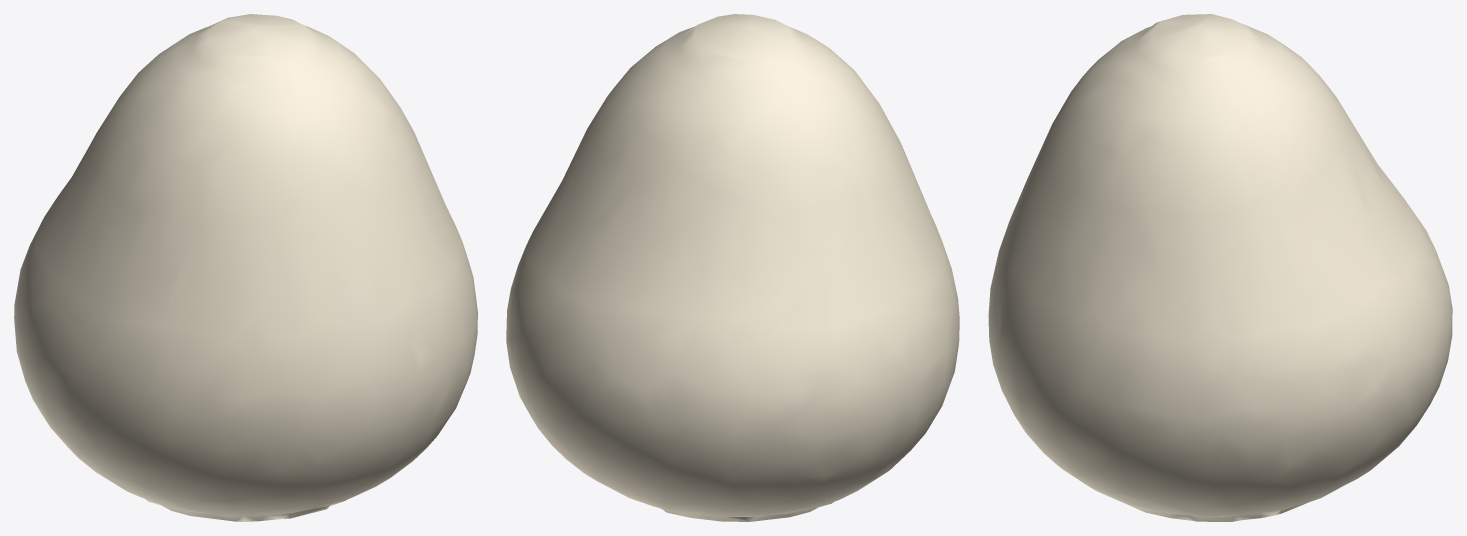
The model's file is studio.glb.
The picture shows the model from 3 angles, left to right: view 1: azimuth 30°, elevation 25°; view 2: azimuth 150°, elevation 25°; view 3: azimuth 270°, elevation 25°; orthographic projection. The views are drawn at different scales.
Size of the model in its own units: 0.9252 by 1.02 by 0.9392.
Materials: 1 (1 with a texture image).
